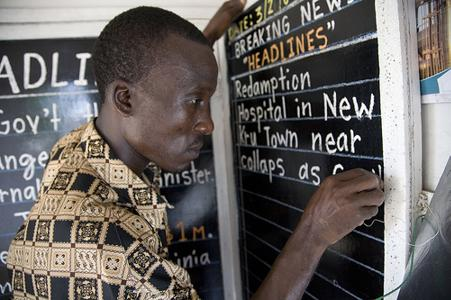person: (7, 7, 383, 300)
